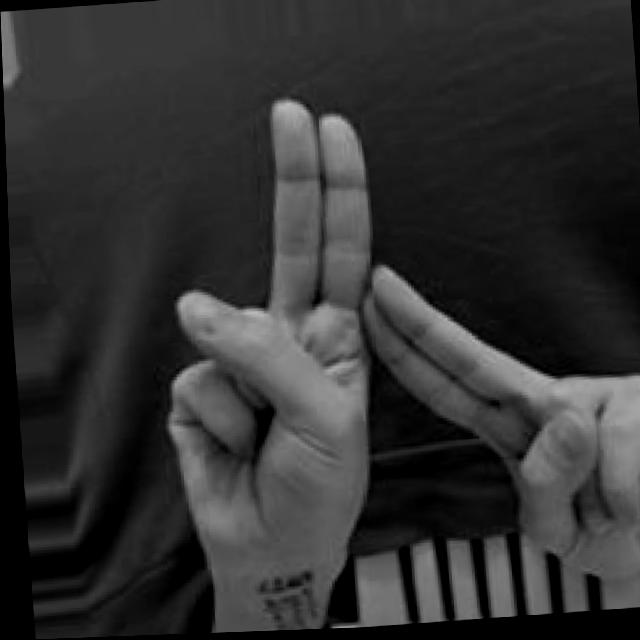K: (138, 66, 640, 635)
